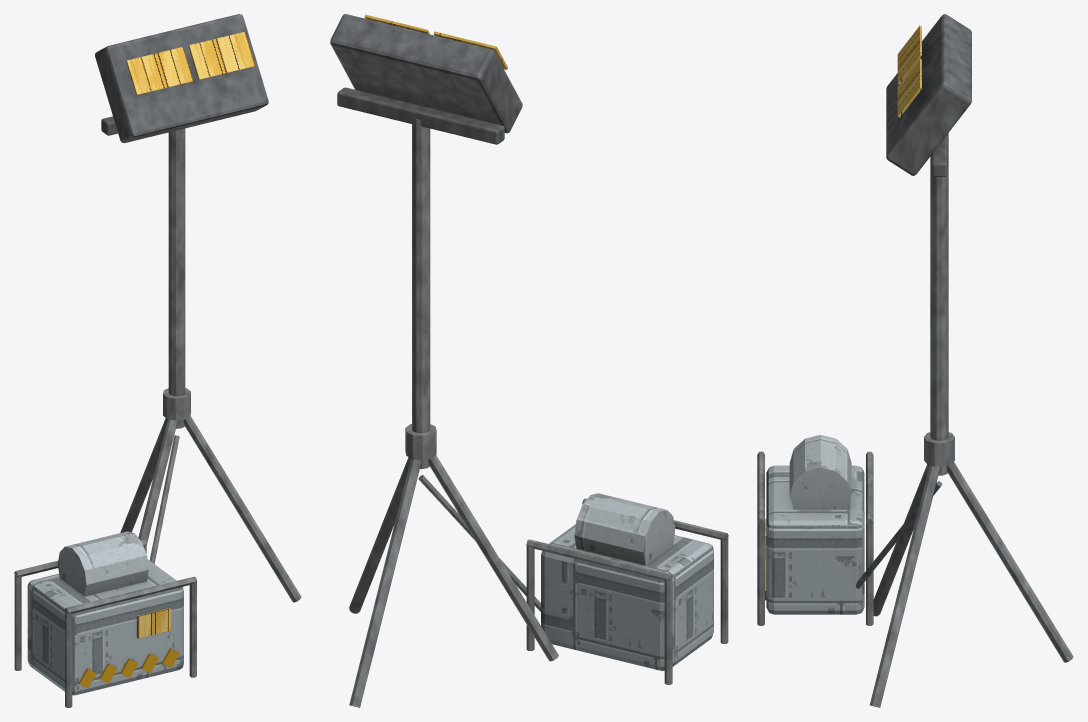
The model's file is camp_floodlight.glb.
The picture shows the model from 3 angles, left to right: view 1: azimuth 30°, elevation 25°; view 2: azimuth 150°, elevation 25°; view 3: azimuth 270°, elevation 25°; orthographic projection. The views are drawn at different scales.
Parts seen in each view (by area): view 1: camp_floodlight; view 2: camp_floodlight; view 3: camp_floodlight.
Part boxes in pixels (<box>): camp_floodlight: <box>14,14,301,707</box>; camp_floodlight: <box>330,14,728,707</box>; camp_floodlight: <box>757,14,1073,707</box>.
Bounding box in the file's own units: 1.39 × 2.62 × 1.22.
4 materials, 4 textured.
